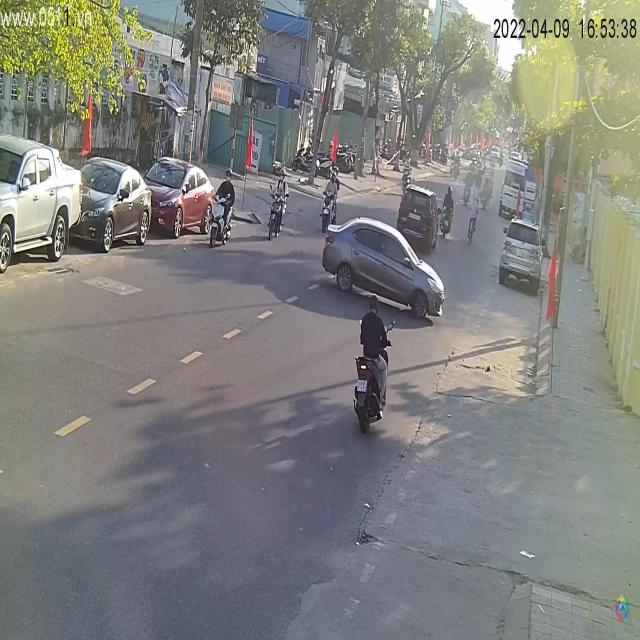car: (322, 220, 446, 322), (1, 134, 82, 278), (72, 158, 156, 254), (141, 156, 218, 240), (500, 217, 544, 296), (397, 187, 439, 257)
motorcycle: (352, 353, 388, 432), (205, 185, 237, 252), (266, 182, 287, 245), (318, 187, 338, 238)
